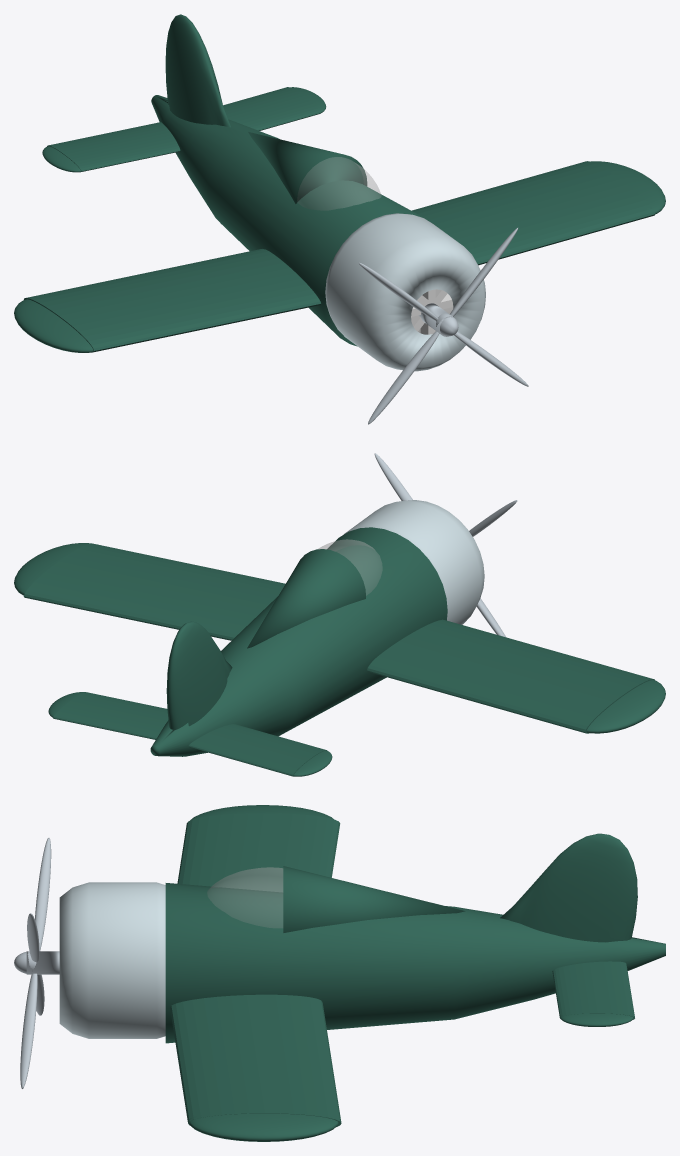
Rendered from propeller 2.fbx.
3 renders of one model, top to bottom at view 1: azimuth 30°, elevation 25°; view 2: azimuth 150°, elevation 25°; view 3: azimuth 270°, elevation 25°, orthographic. The views are drawn at different scales.
Parts seen in each view (by area): view 1: wholebody, innerbody, fans, Engine; view 2: wholebody, innerbody, Engine, fans; view 3: wholebody, innerbody, fans, Engine.
Part boxes in pixels (box(x1,y1,x2,y2)): wholebody: box(14, 14, 665, 352); innerbody: box(325, 213, 485, 371); fans: box(359, 228, 528, 424); Engine: box(297, 157, 381, 210); wholebody: box(14, 527, 665, 776); innerbody: box(343, 500, 484, 624); Engine: box(318, 539, 382, 595); fans: box(374, 453, 517, 637); wholebody: box(165, 805, 665, 1141); innerbody: box(59, 882, 165, 1038); fans: box(14, 838, 59, 1088); Engine: box(207, 867, 283, 927).
Bounding box in the file's own units: 1284 × 398 × 1064.
